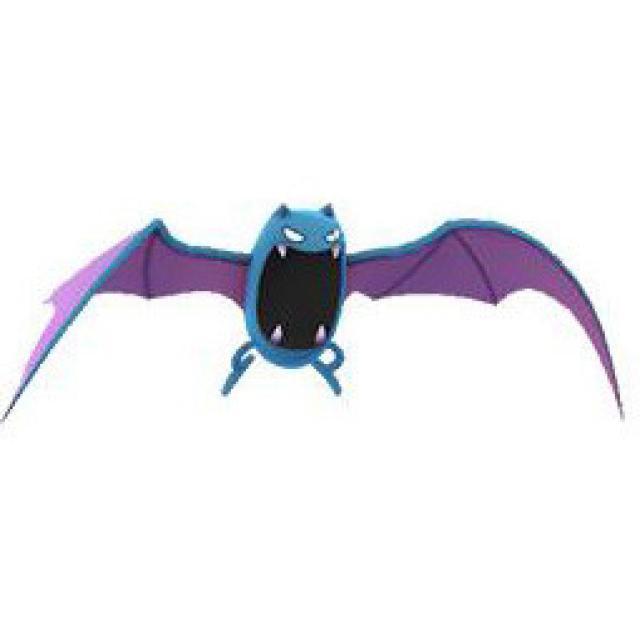Golbat: (152, 201, 433, 400)
